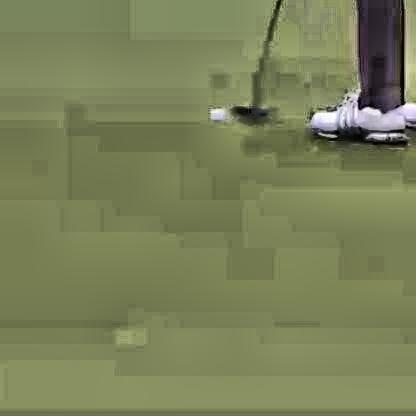golfball: (206, 104, 223, 119)
